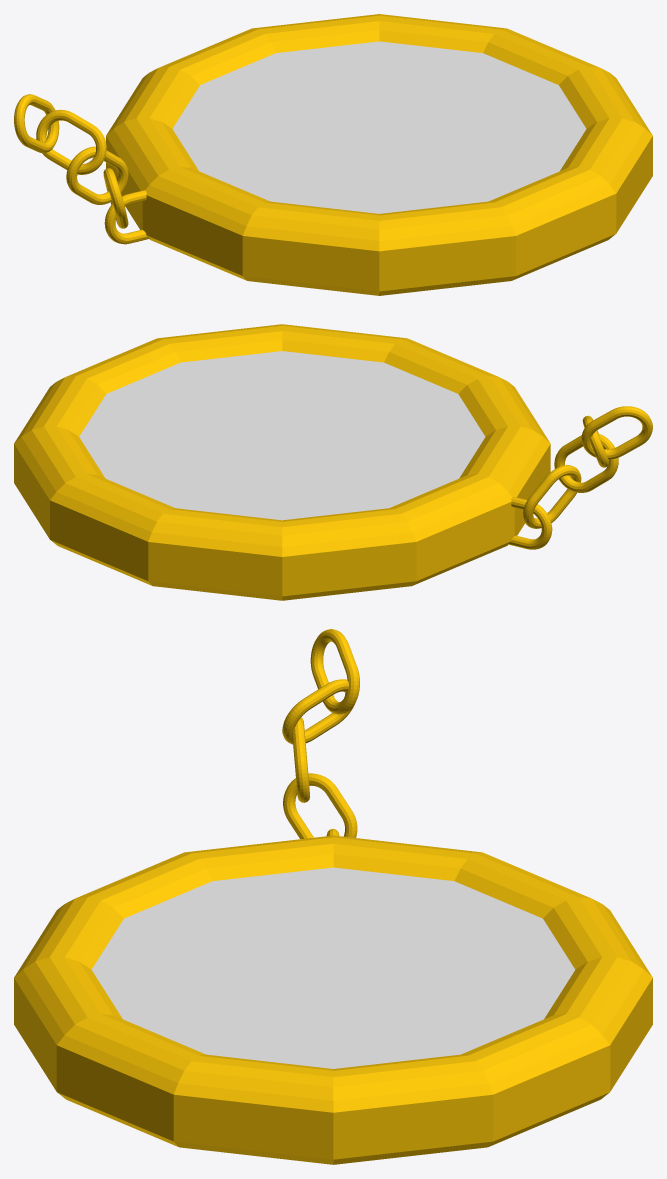
Rendered from johnporkcharm.glb.
3 views of the same model, one above another, from view 1: azimuth 30°, elevation 25°; view 2: azimuth 150°, elevation 25°; view 3: azimuth 270°, elevation 25° (orthographic). The views are drawn at different scales.
Visible parts, largest first — view 1: Torus.007, Cylinder.001, Torus.003, Torus.004, Torus.005, Torus.001, Torus.002; view 2: Torus.007, Cylinder.001, Torus.005, Torus.002, Torus.004, Torus.001, Torus.003; view 3: Torus.007, Cylinder.001, Torus.005, Torus.002, Torus.003, Torus.004.
Part boxes in pixels (box(x1,y1,x2,y2)): Torus.007: box(106, 14, 652, 295); Cylinder.001: box(172, 41, 586, 213); Torus.003: box(36, 109, 106, 174); Torus.004: box(66, 146, 128, 204); Torus.005: box(14, 94, 59, 153); Torus.001: box(104, 190, 149, 244); Torus.002: box(103, 168, 128, 228); Torus.007: box(14, 324, 550, 600); Cylinder.001: box(79, 351, 485, 520); Torus.005: box(581, 406, 652, 459); Torus.002: box(523, 465, 581, 528); Torus.004: box(554, 433, 618, 492); Torus.001: box(508, 496, 552, 549); Torus.003: box(582, 415, 609, 467); Torus.007: box(14, 835, 652, 1164); Cylinder.001: box(91, 867, 575, 1068); Torus.005: box(310, 629, 359, 714); Torus.002: box(283, 773, 357, 839); Torus.003: box(282, 679, 355, 744); Torus.004: box(292, 717, 309, 802).
Size of the model in its own units: 2.97 by 0.807 by 2.31.
